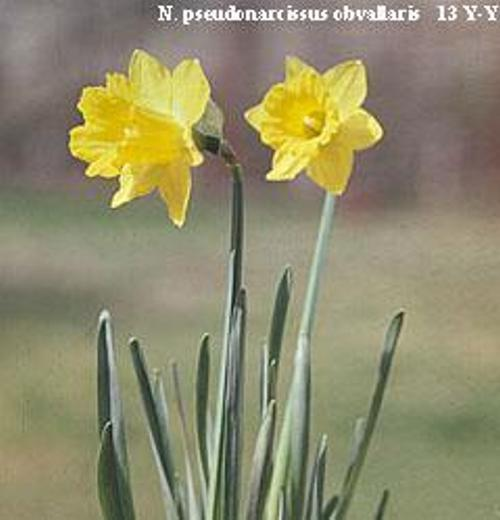flower1: (67, 48, 229, 229), (243, 53, 384, 197)
